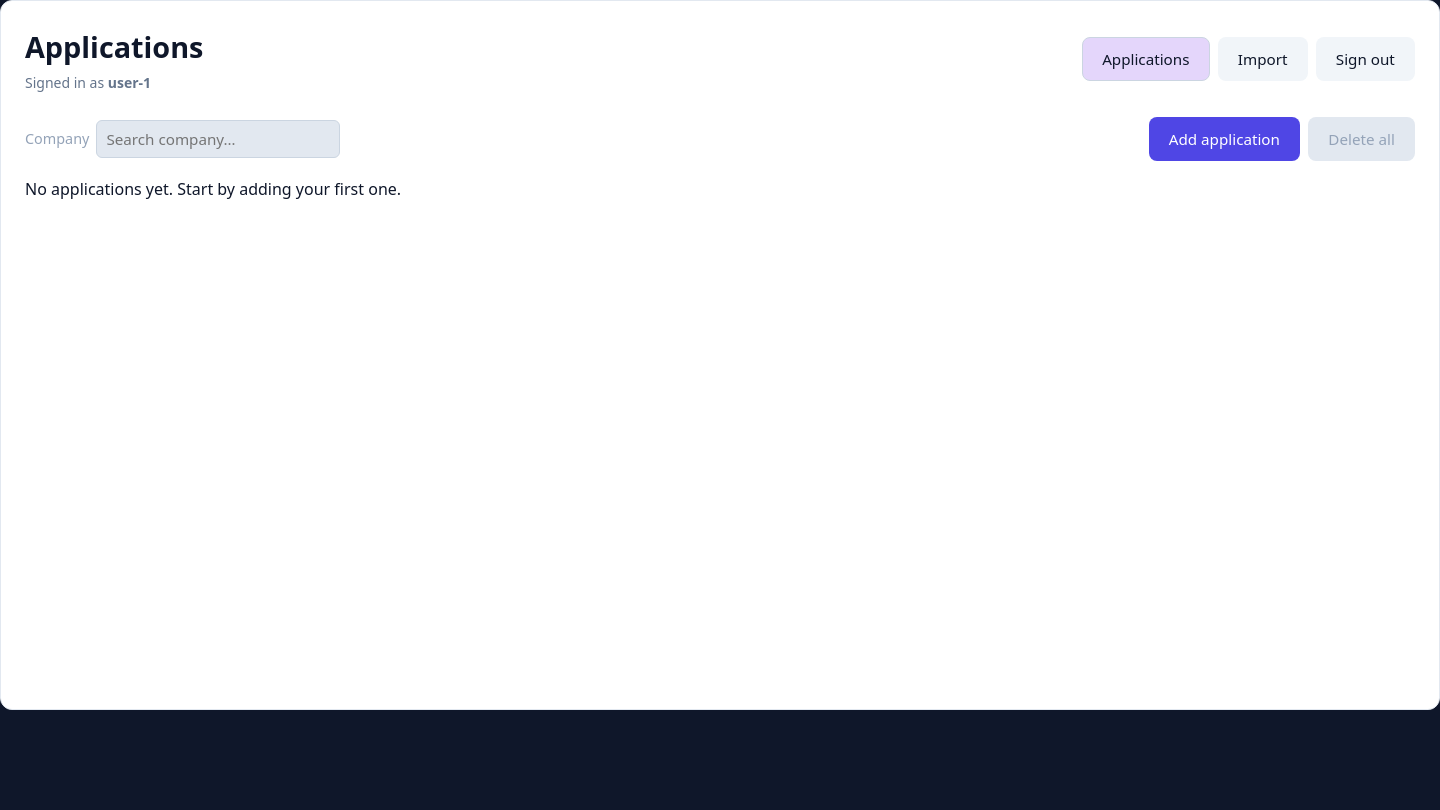
it: ApplicationsPage › creates a new application through the form
The width and height of the screenshot is (1440, 810).
Click the button "Add application" at (1224, 139), box [1149, 117, 1300, 161]
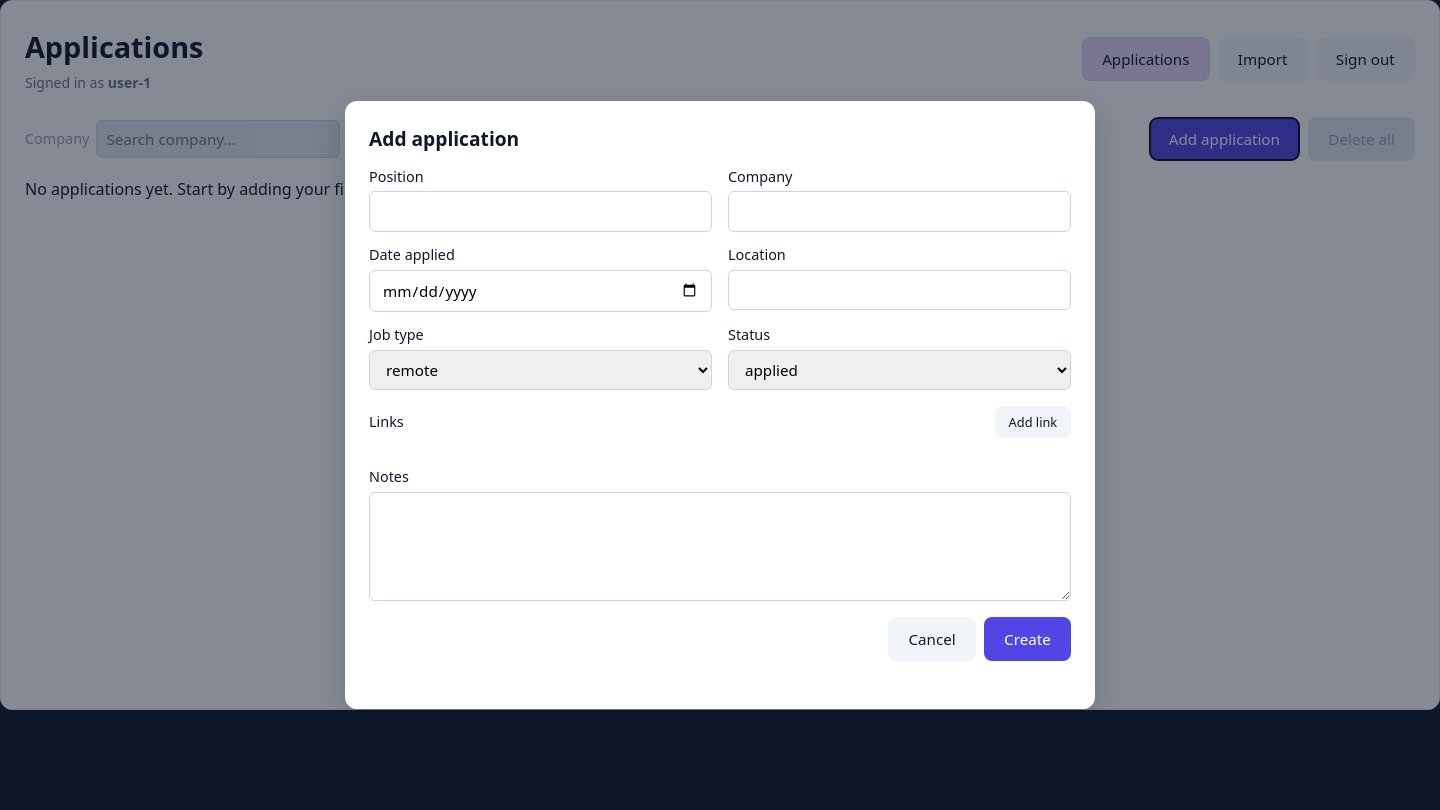
Type "Engineer" into the field labelled "Position" at (540, 212), box [369, 191, 712, 232]
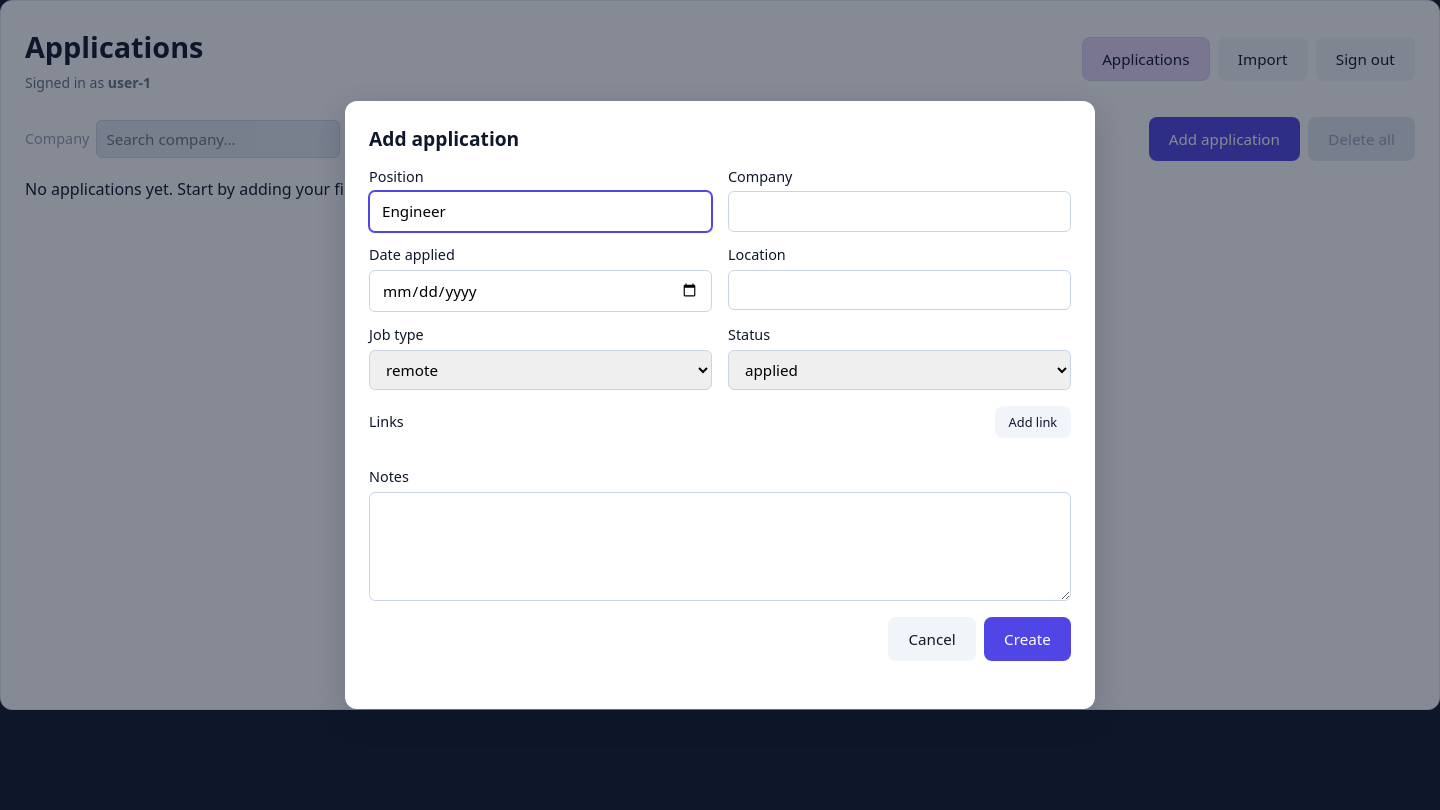
Type "NewCo" into the field labelled "Company" at (900, 212), box [728, 191, 1071, 232]
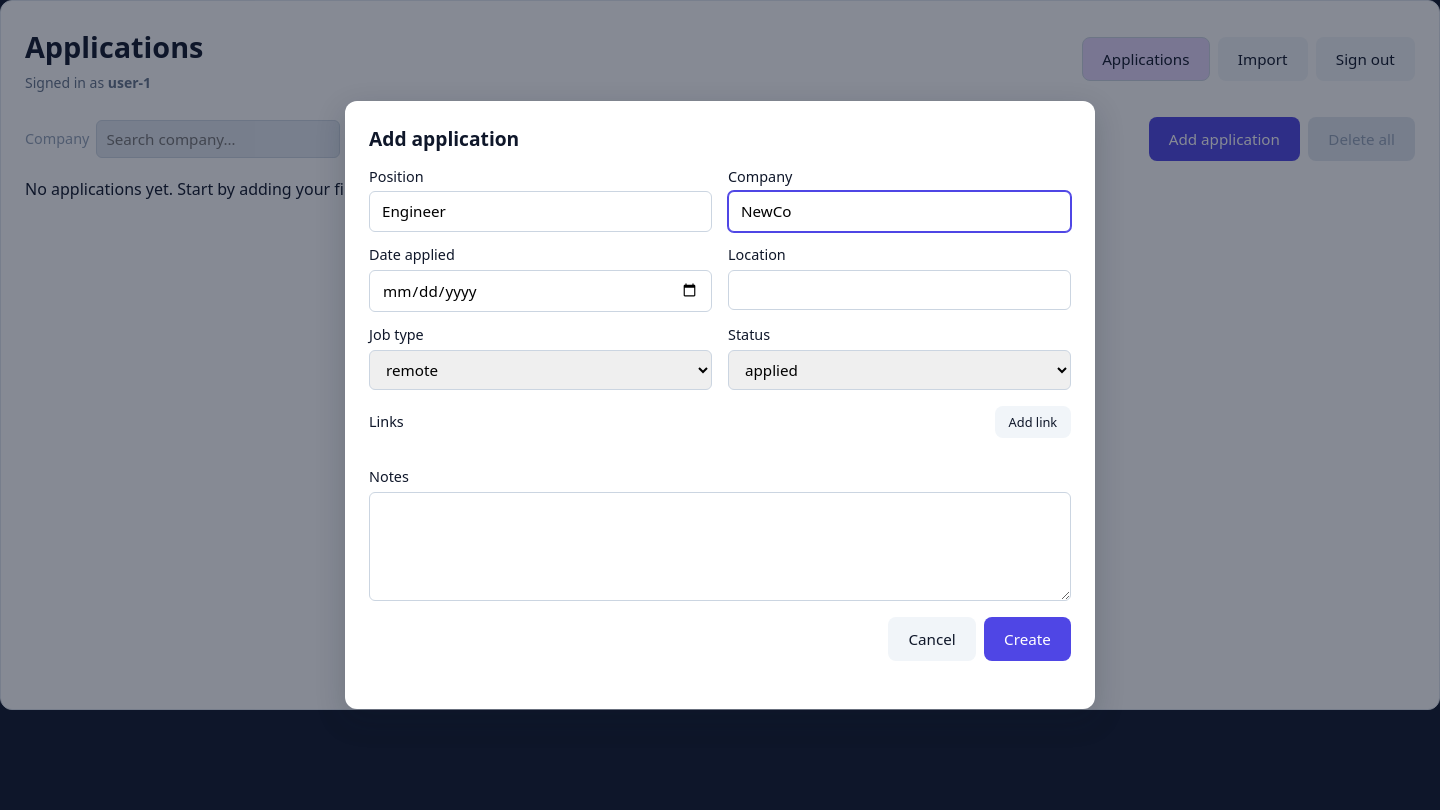
Type "2025-01-05" into the date field labelled "Date applied" at (540, 291), box [369, 270, 712, 312]
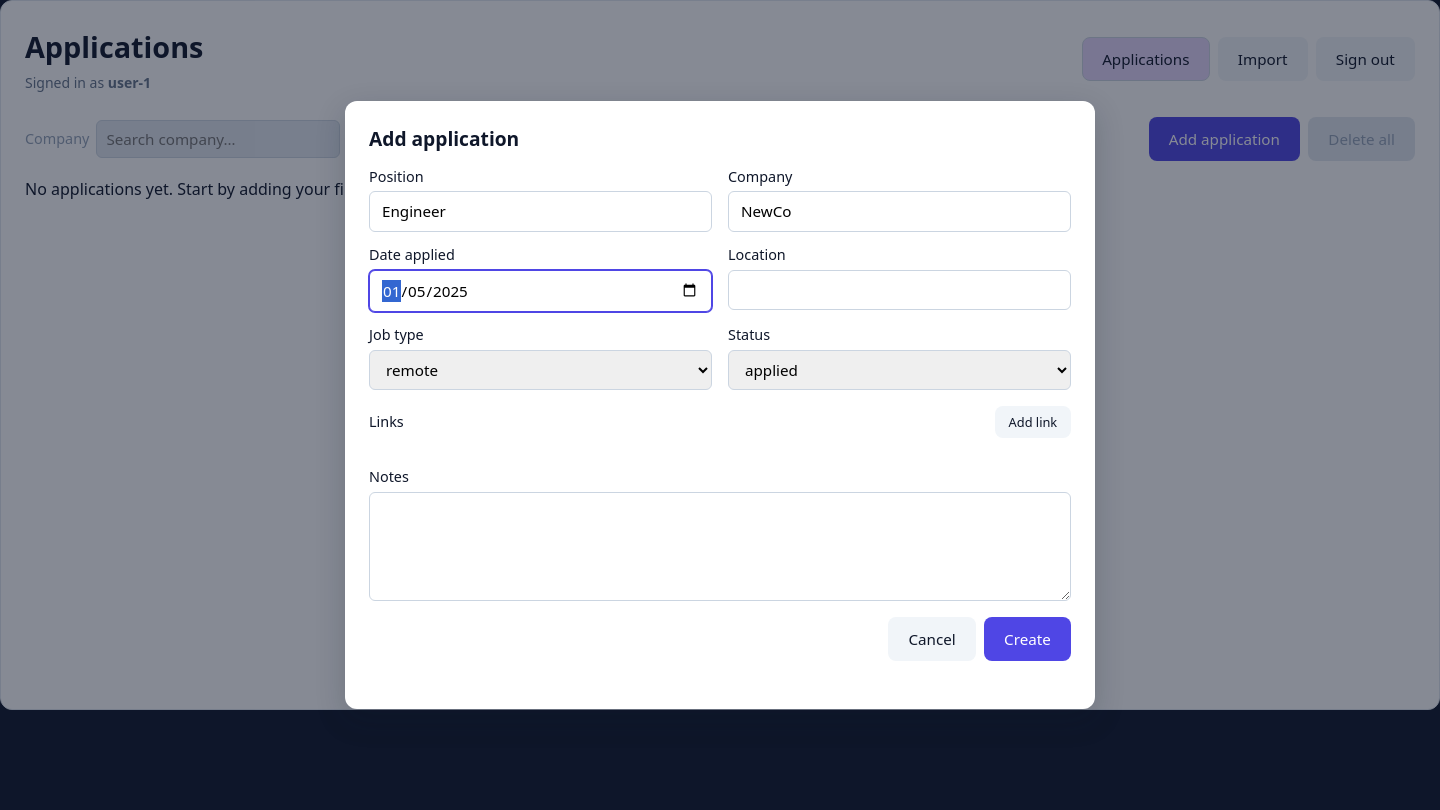
Click the button "Create" at (1027, 639), box [984, 617, 1071, 661]
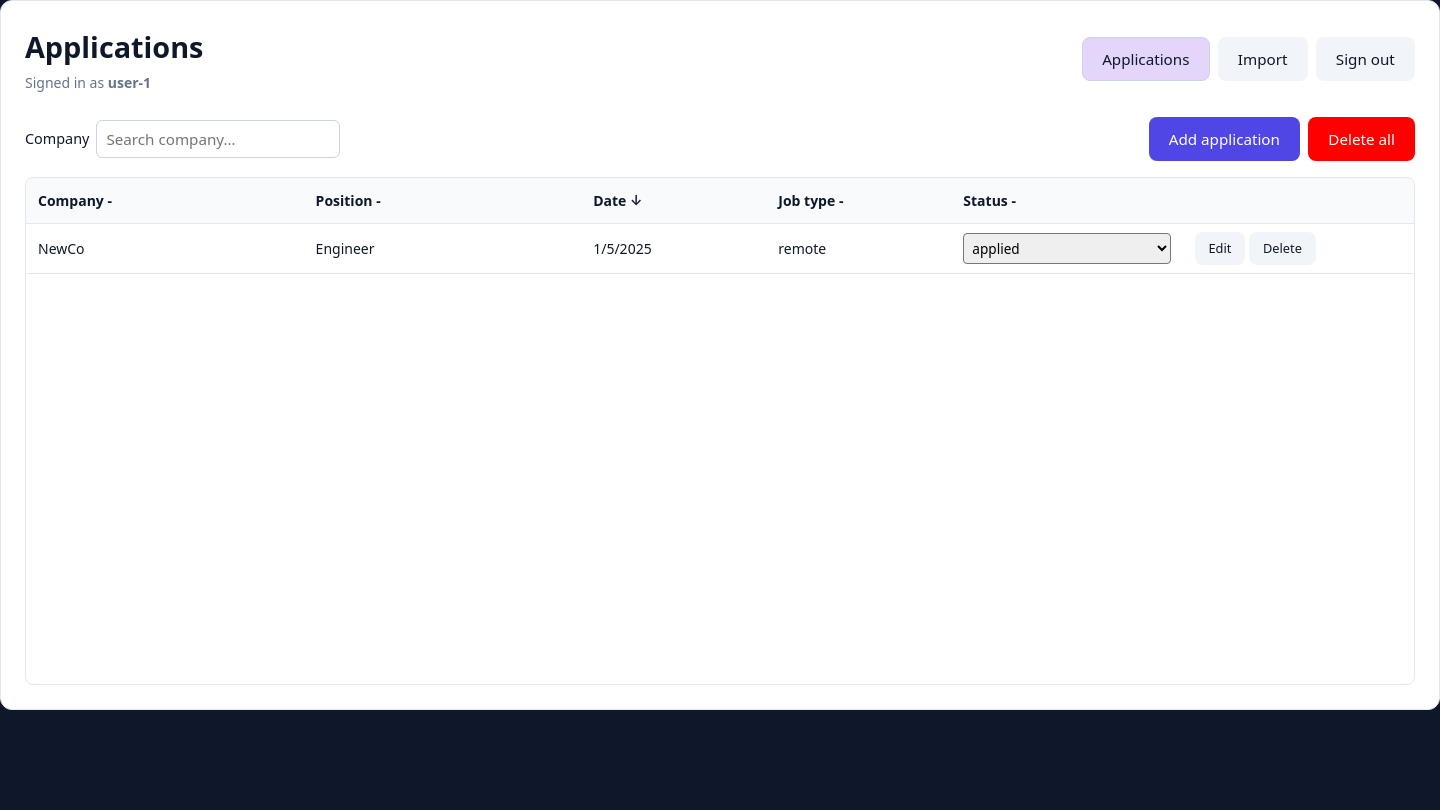
Expected: the text "NewCo" is shown, [38, 239, 85, 258]
